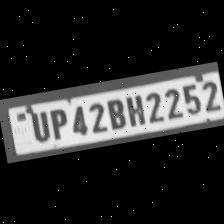2: (197, 76, 222, 114), (140, 88, 164, 124), (84, 98, 107, 134), (160, 84, 183, 120)
4: (64, 102, 90, 138)
5: (178, 80, 202, 117)
B: (103, 96, 127, 132)
H: (122, 90, 146, 128)
P: (45, 105, 69, 140)
U: (26, 108, 52, 144)
